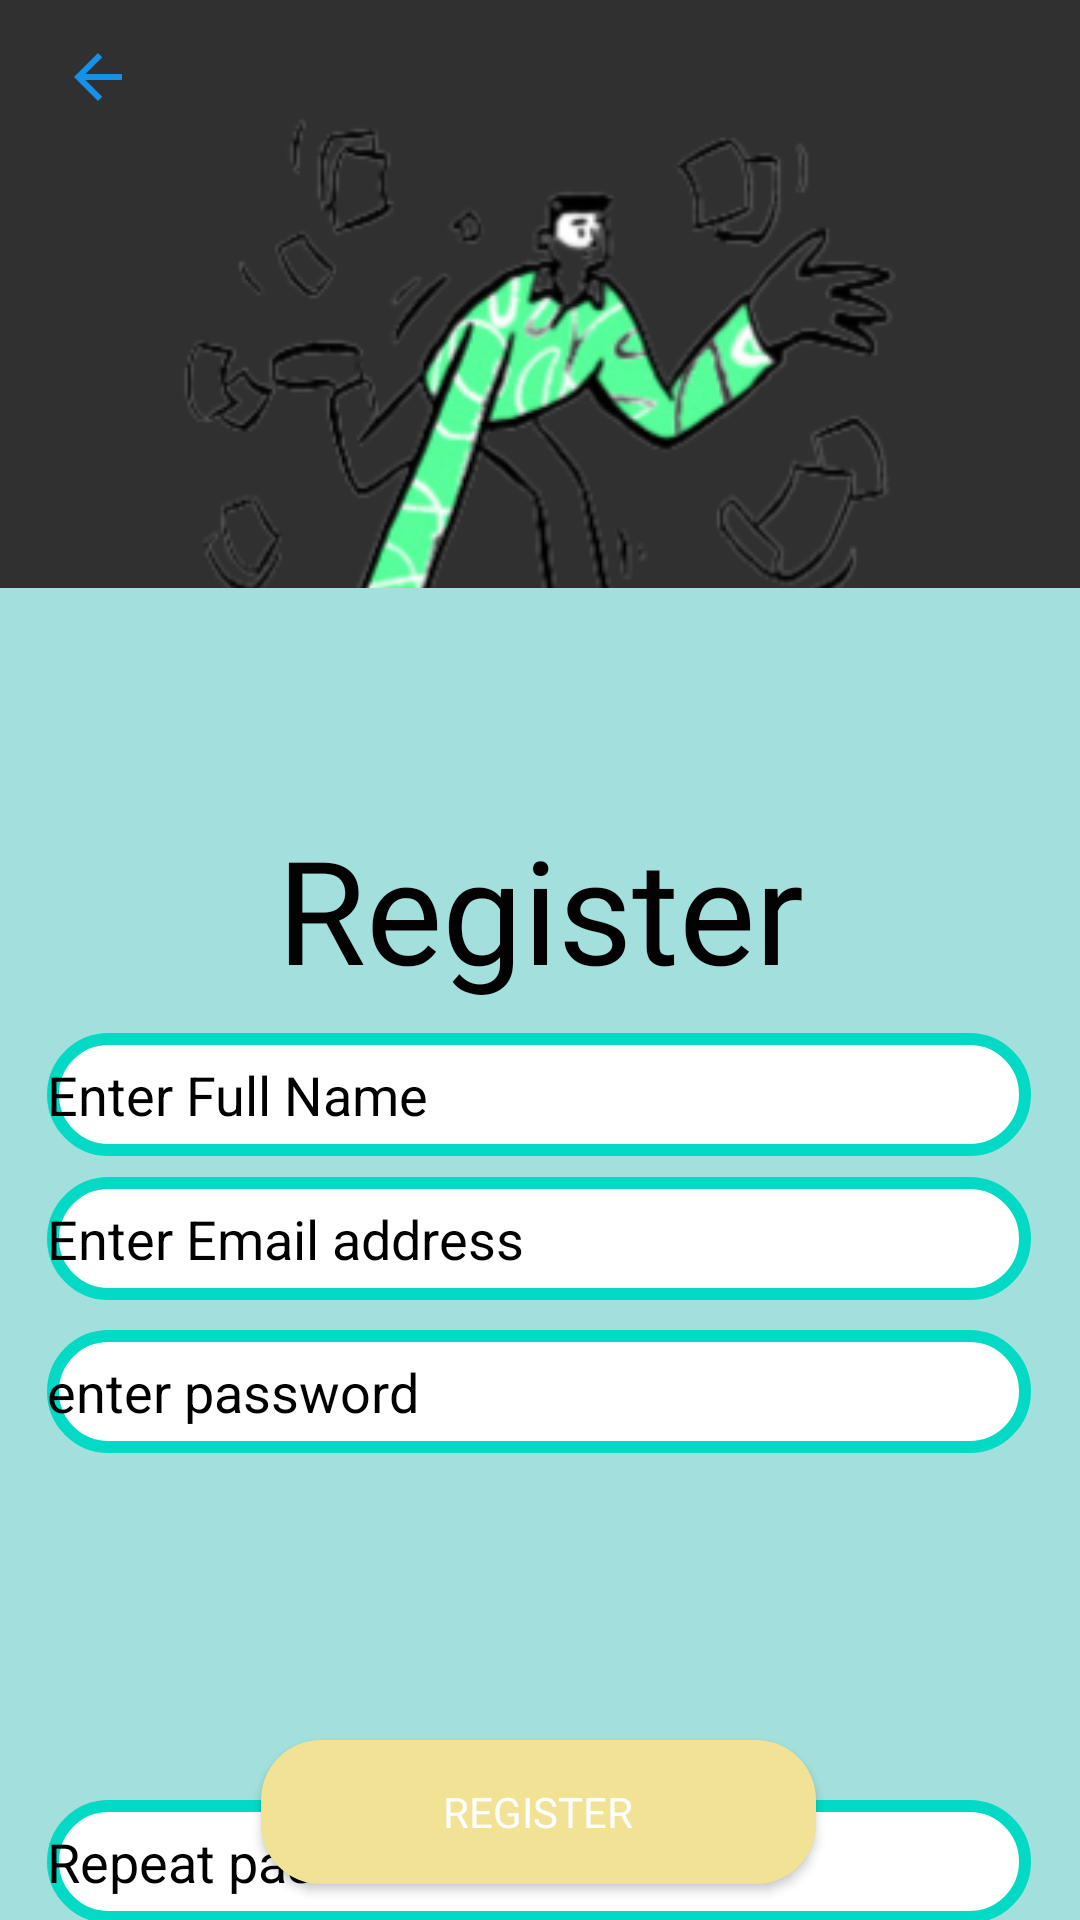

Icons on this 1080px x 1920px Android screen, each with the point to tap as [x,y]:
arrow back: [98,77]
